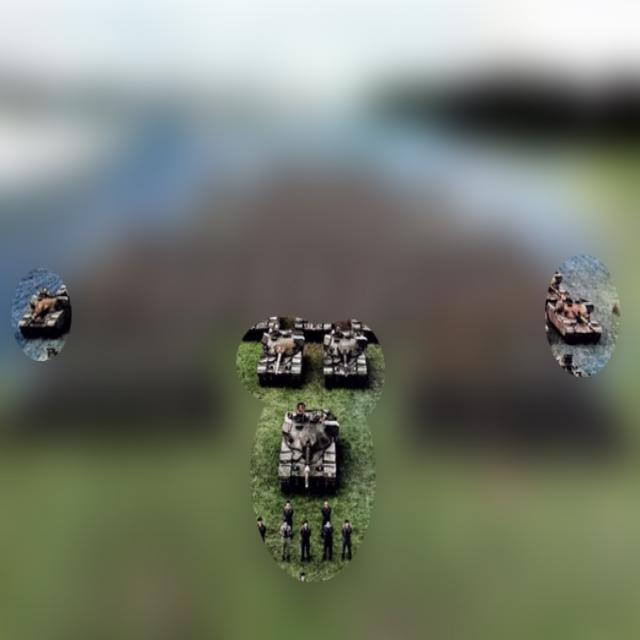tank: (279, 400, 338, 497), (250, 322, 310, 387), (544, 284, 608, 341), (321, 320, 374, 385), (18, 284, 72, 340)
